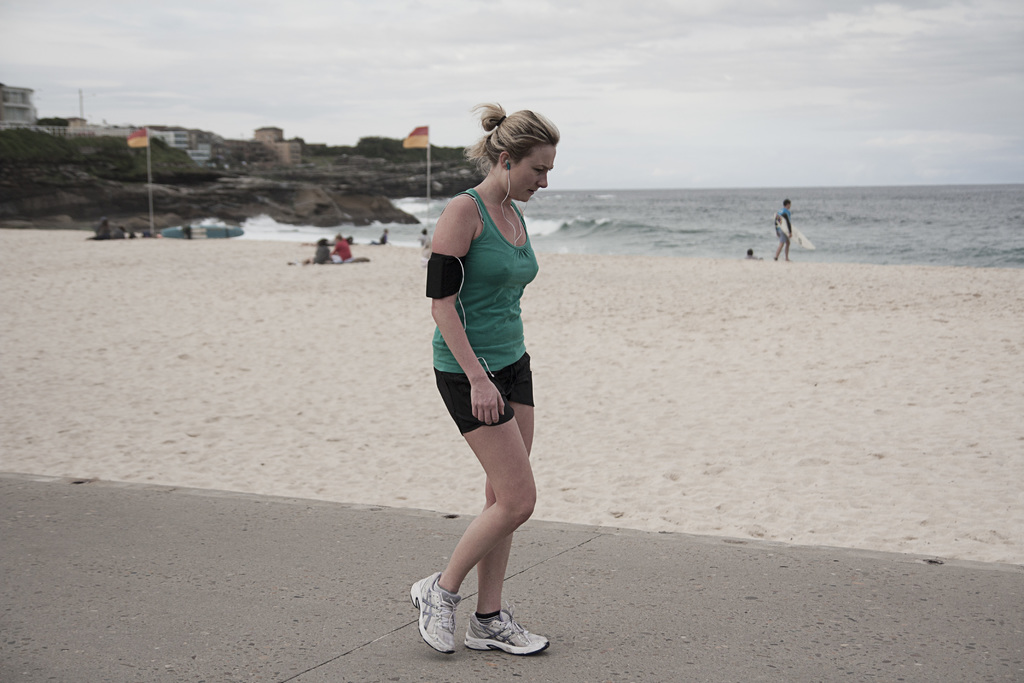Human_hand: (470, 382, 503, 427)
